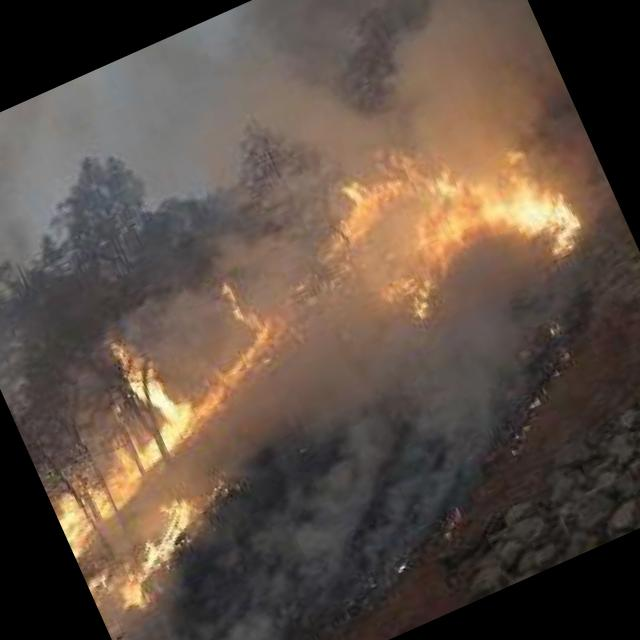fire: (3, 279, 396, 640), (318, 88, 604, 344)
smoke: (227, 0, 492, 168)
